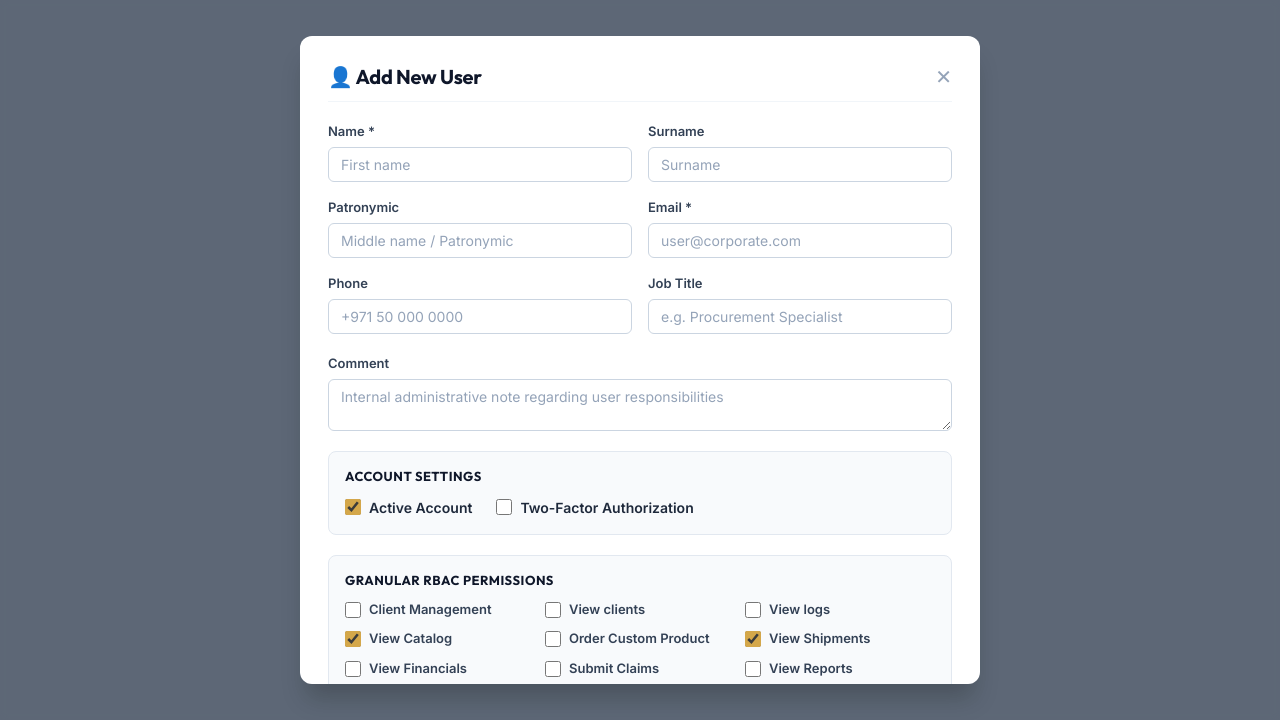
Test case: Members Components & Page (FEAT-1.4) › AddMemberModal Component › displays default error banner when createMember fails without error text
Type "Samir" into the field labelled "Name *" at (480, 165), box [328, 147, 632, 182]
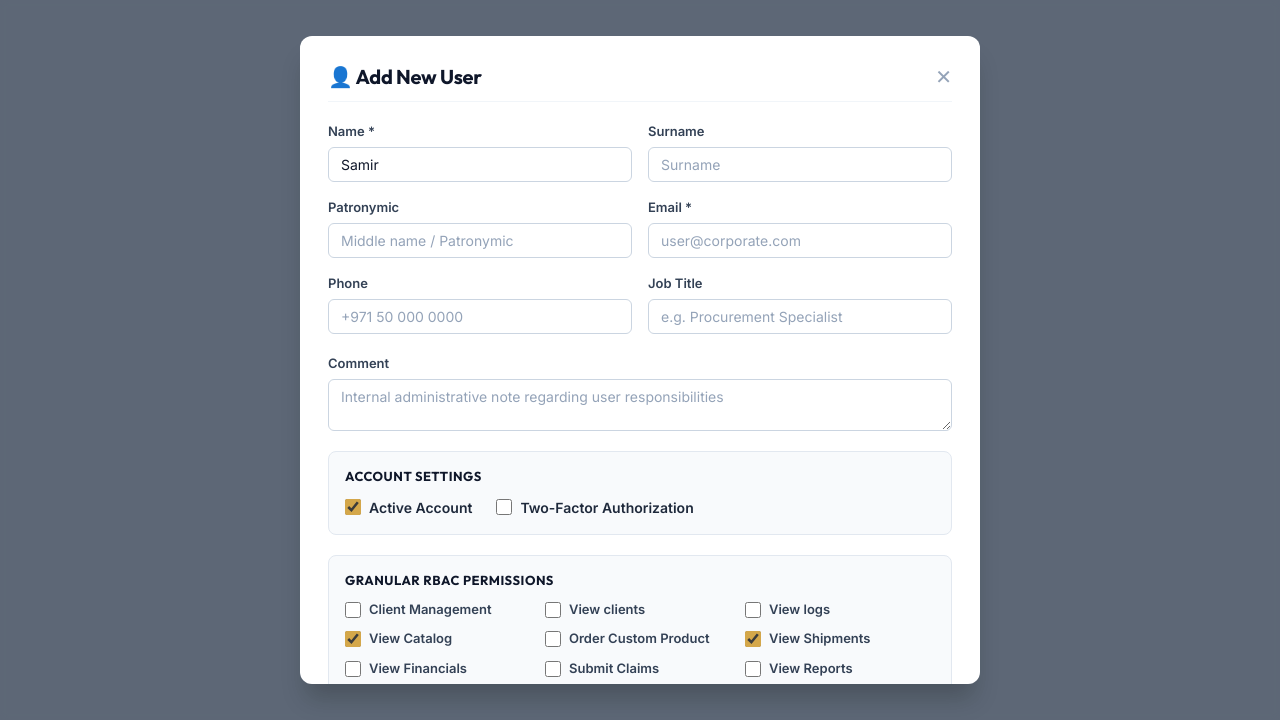
Type "samir@lulu.com" into the field labelled "Email *" at (800, 241), box [648, 223, 952, 258]
(page scrolled)
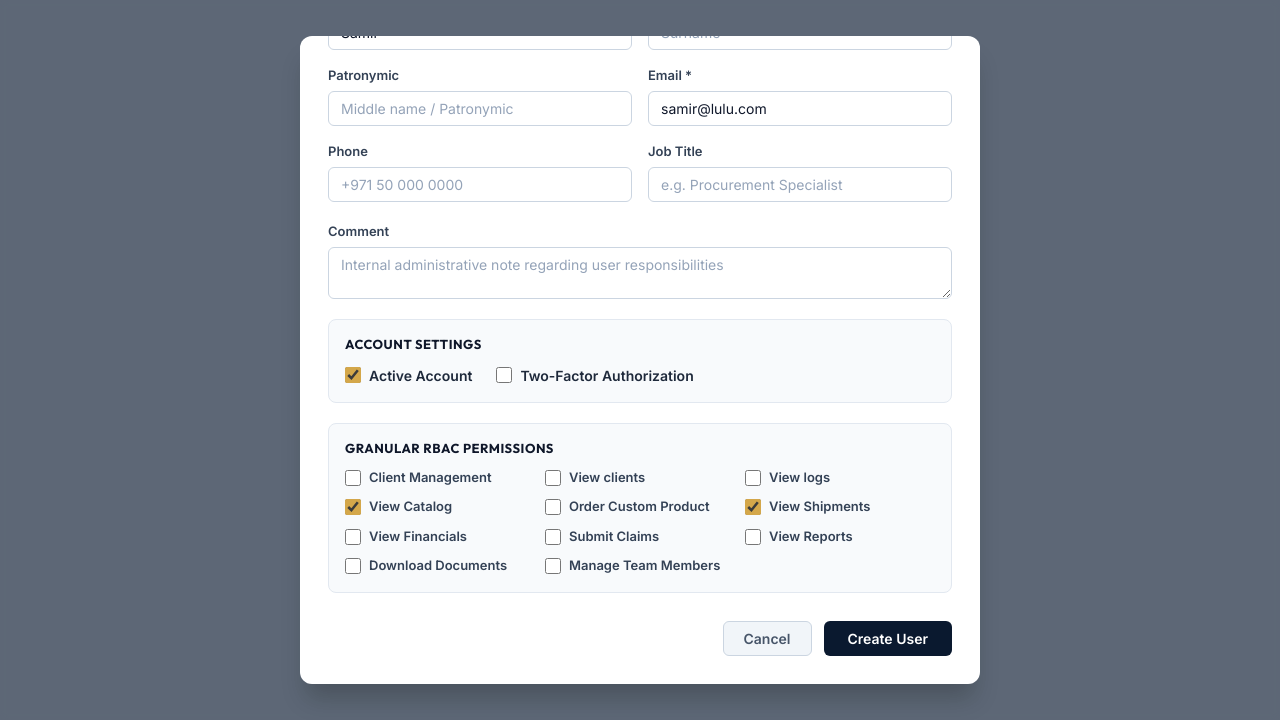
Click the button "Create User" at (888, 638), box [824, 621, 952, 656]
(page scrolled)
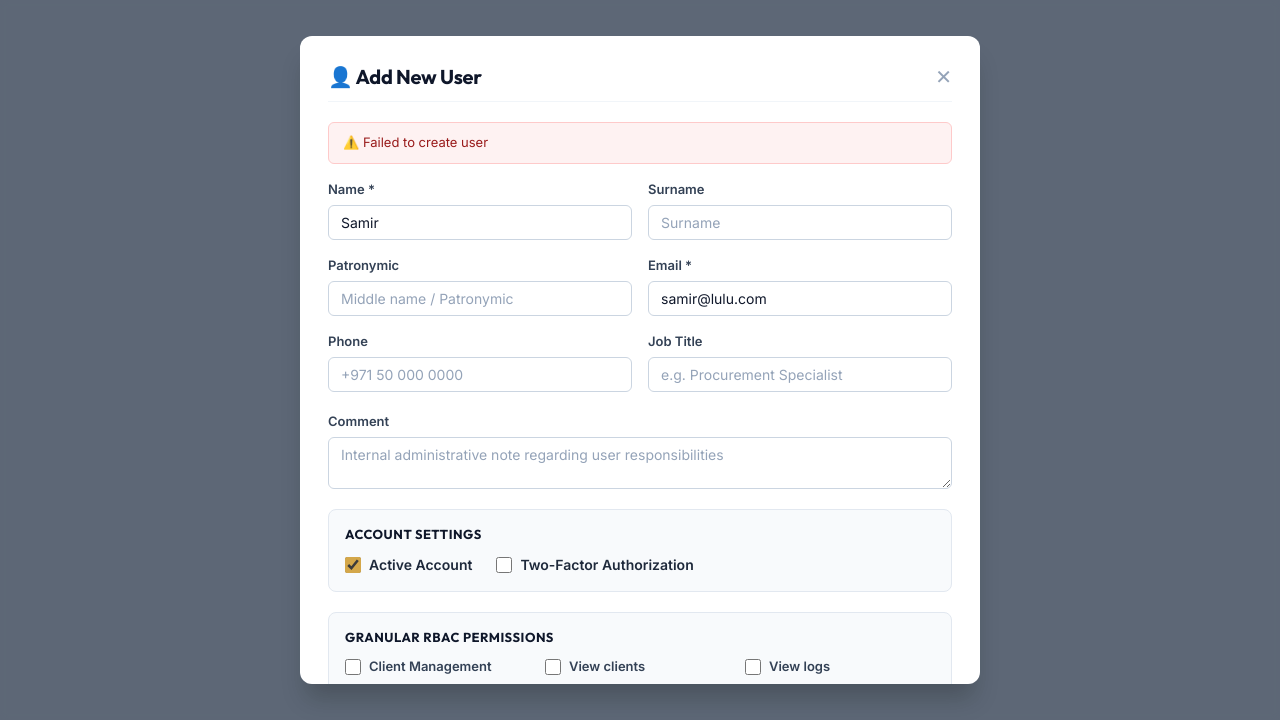
Check: the text "⚠️ Failed to create user" is shown, box [328, 122, 952, 164]
